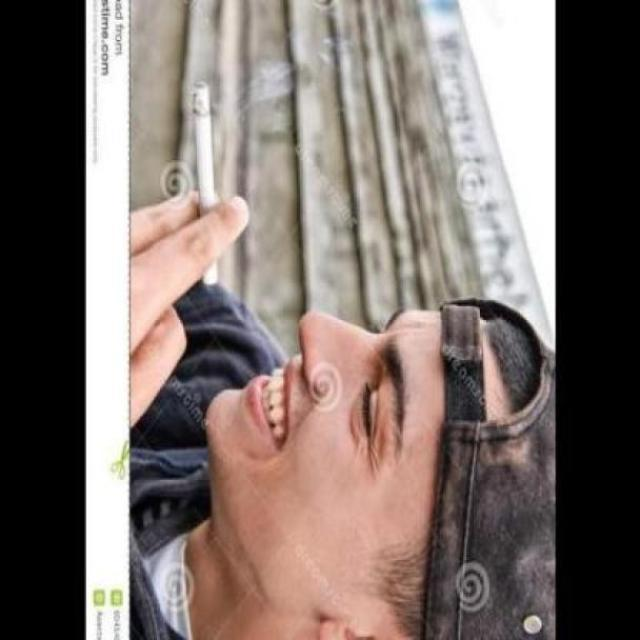rokok: (187, 76, 229, 296)
